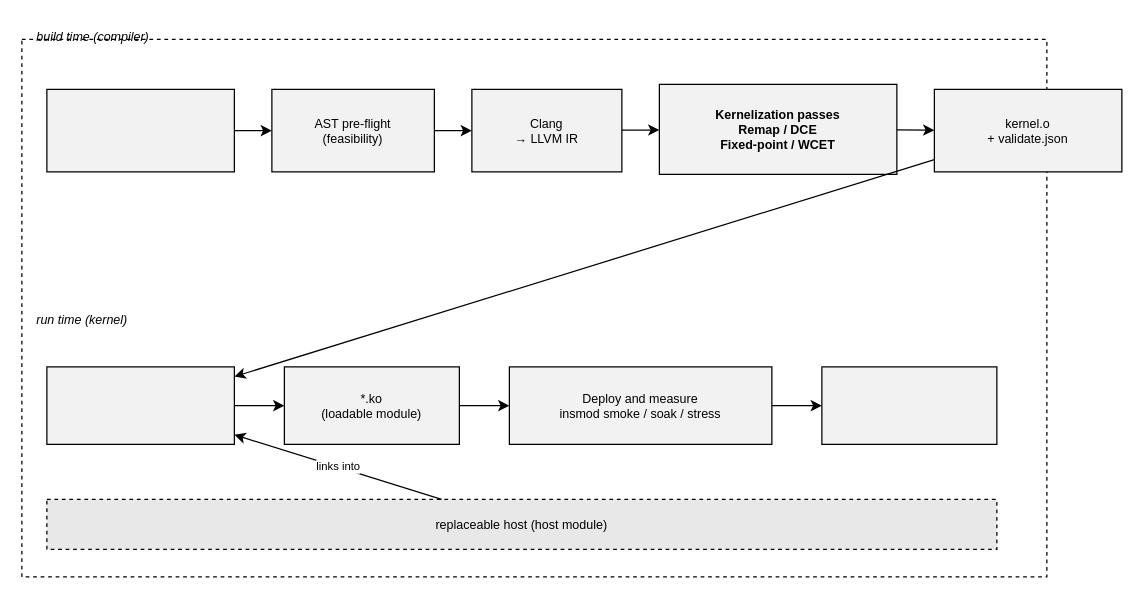
The diagram is 1144 pixels wide and 599 high, and some of its shapes have lost their labels. Here are the shapes that lost their labels. From the top down, the centre of each, then its label:
At point (140, 130): "Manifest + C source".
At point (140, 405): "ignite_fused (link host + stubs)".
At point (909, 405): "results/ CSV + logs".
